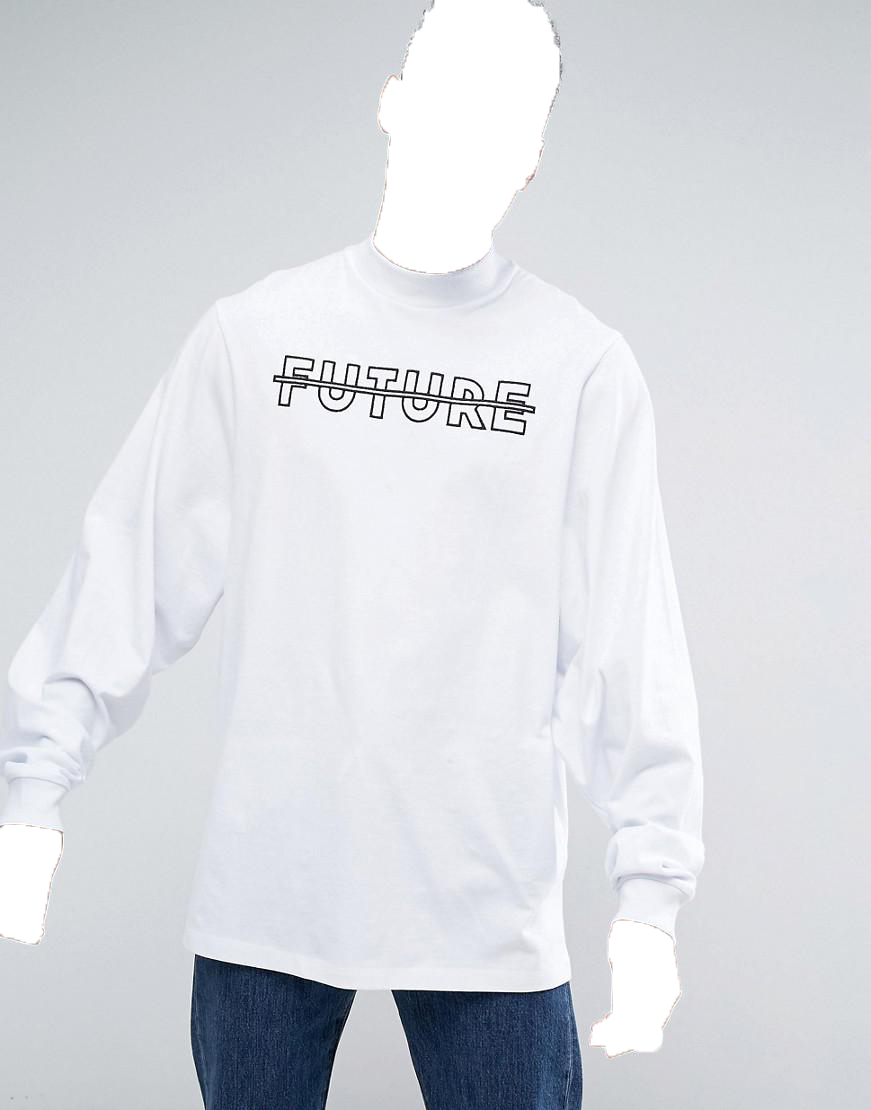teeshirt: (1, 239, 708, 1012)
